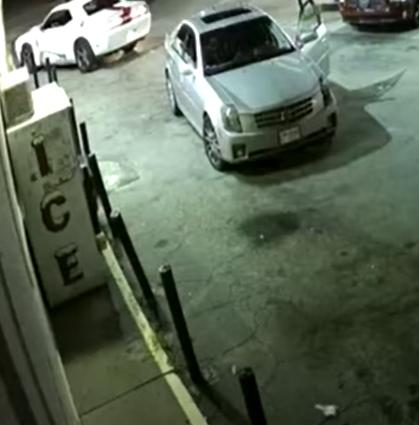NoHuman: (0, 0, 419, 417)
